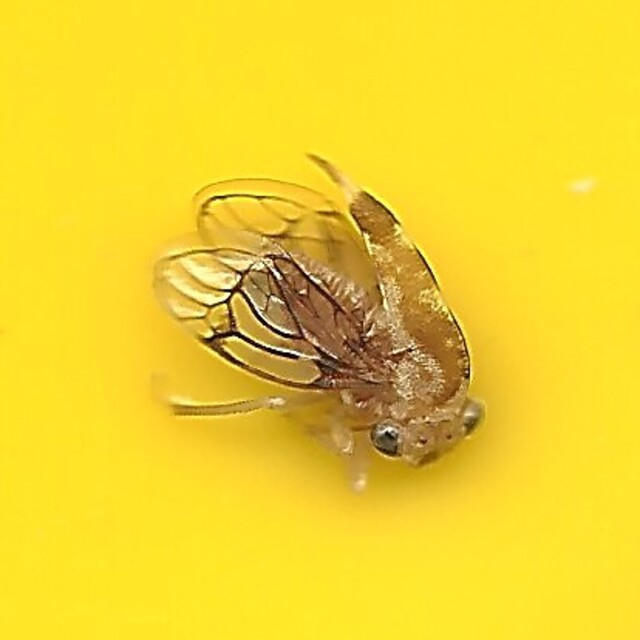Hemiptera: (155, 158, 485, 482)
